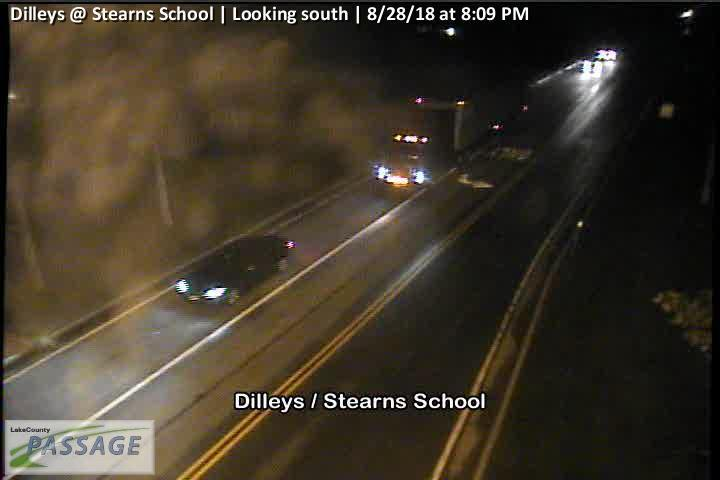Sedan: (175, 234, 295, 305)
